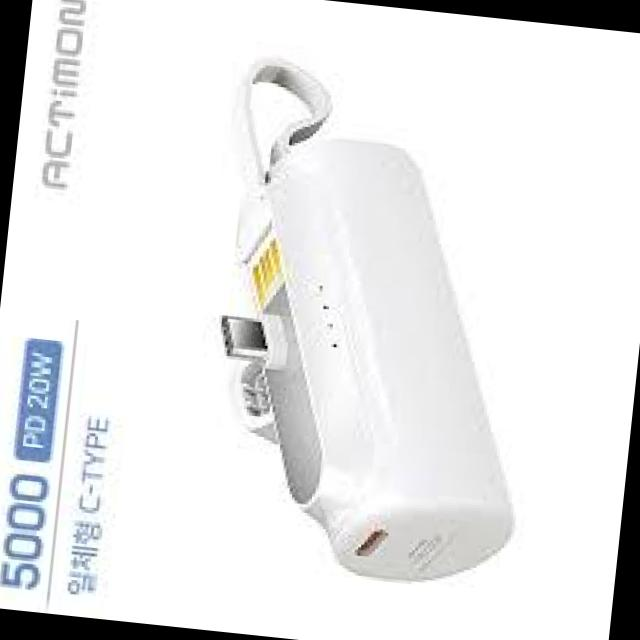portable-charger: (186, 114, 562, 596)
